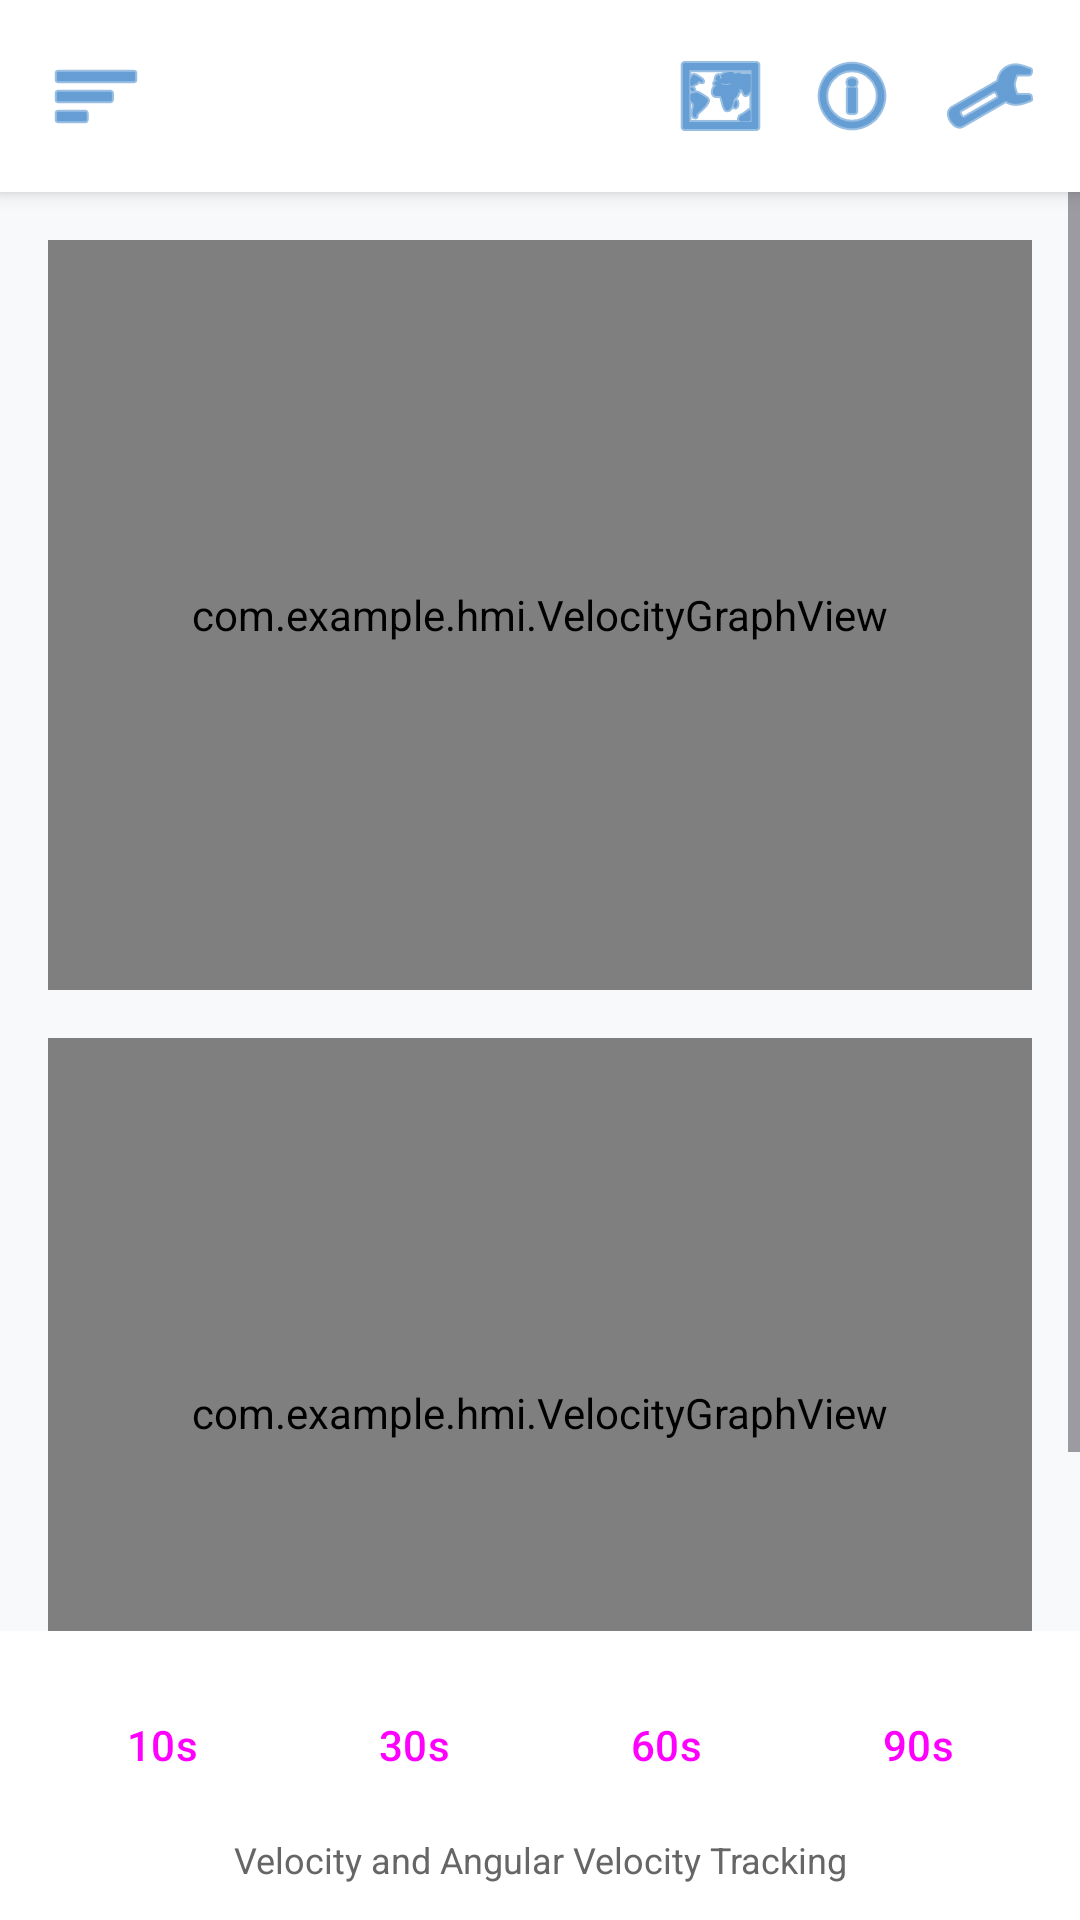

Screen size 1080 x 1920. Icon name, then its box in pixels as box(x1, y1, x2, y2):
info details: box(817, 61, 887, 131)
manage: box(947, 63, 1033, 129)
mapmode: box(680, 61, 761, 131)
sort by size: box(55, 70, 137, 123)
